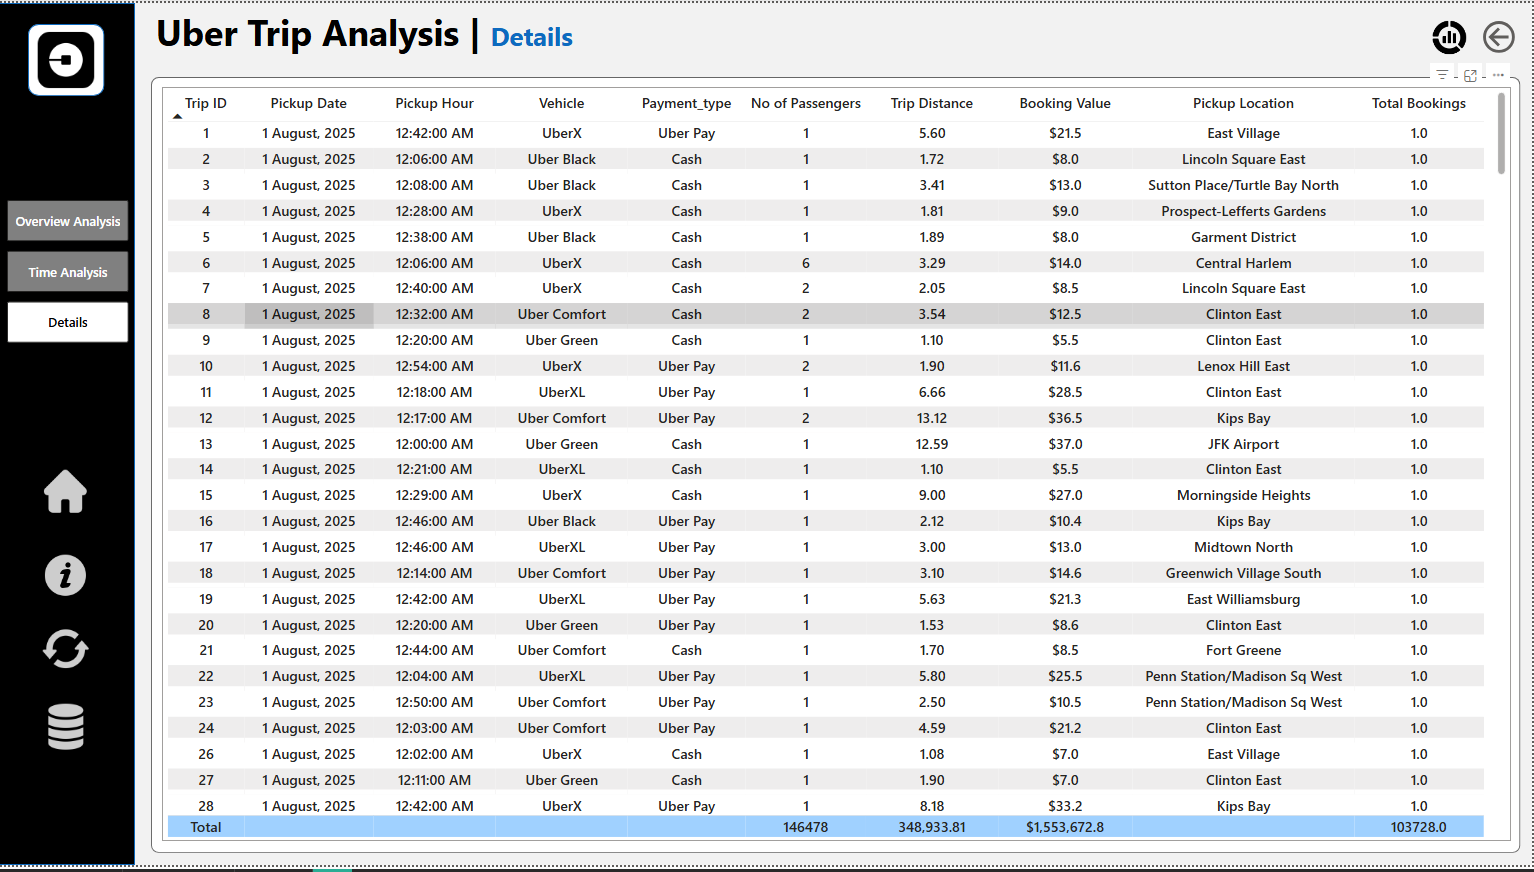

This screenshot's page, from the dashboard's own definition file:
{"tool":"powerbi","page":{"name":"Details","canvas":[1600,900],"ordinal":2},"visuals":[{"type":"shape","box":[0,0,142,900],"z":0},{"type":"shape","box":[29.8,22.3,79.7,75.2],"z":0,"group":"g1"},{"type":"textbox","box":[158.2,0,607.1,65.1],"z":1000},{"type":"image","box":[32.7,25.2,73.1,69.3],"z":1000,"group":"g1"},{"type":"shape","box":[158.2,77.4,1429.7,810.2],"z":2000},{"type":"tableEx","fields":{"Values":["Trip Details.Trip ID","Trip Details.Pickup Date","Trip Details.Pickup Hour (HH MM SS)","Trip Details.Vehicle","Trip Details.Payment_type","Sum(Trip Details.passenger_count)","Trip Details.Total Trip Distance Measure","Trip Details.Total Booking Value","Location Table.Location","Trip Details.Total Bookings"]},"box":[170.6,87.5,1408.4,787.8],"z":3000},{"type":"actionButton","box":[1544.1,13.5,50,43.8],"z":4000},{"type":"image","box":[1489.2,13.5,50.5,44.9],"z":5000},{"type":"pageNavigator","box":[7.9,205.4,127.9,149.3],"z":6000},{"type":"group","id":"g1","title":"Uber Logo","box":[29.8,22.3,79.7,75.2],"z":7000},{"type":"image","box":[41.5,480.3,55,58.4],"z":8000},{"type":"image","box":[39.3,645.3,60.6,58.4],"z":9000},{"type":"image","box":[42.6,567.8,52.7,58.4],"z":10000},{"type":"image","box":[40.4,724.9,58.4,61.7],"z":11000}]}

Visuals, with their boxes on the page's 1600x900 design canvas (x1, y1, x2, y2). These are canvas units, not pixel positions in the 1534x872 screenshot, which may show the page scaled, cropped or inside an application window:
shape: BBox(0, 0, 142, 900)
shape: BBox(30, 22, 110, 98)
textbox: BBox(158, 0, 765, 65)
image: BBox(33, 25, 106, 94)
shape: BBox(158, 77, 1588, 888)
tableEx - Trip Details.Trip ID x Trip Details.Pickup Date: BBox(171, 88, 1579, 875)
actionButton: BBox(1544, 14, 1594, 57)
image: BBox(1489, 14, 1540, 58)
pageNavigator: BBox(8, 205, 136, 355)
"Uber Logo" group: BBox(30, 22, 110, 98)
image: BBox(42, 480, 96, 539)
image: BBox(39, 645, 100, 704)
image: BBox(43, 568, 95, 626)
image: BBox(40, 725, 99, 787)
